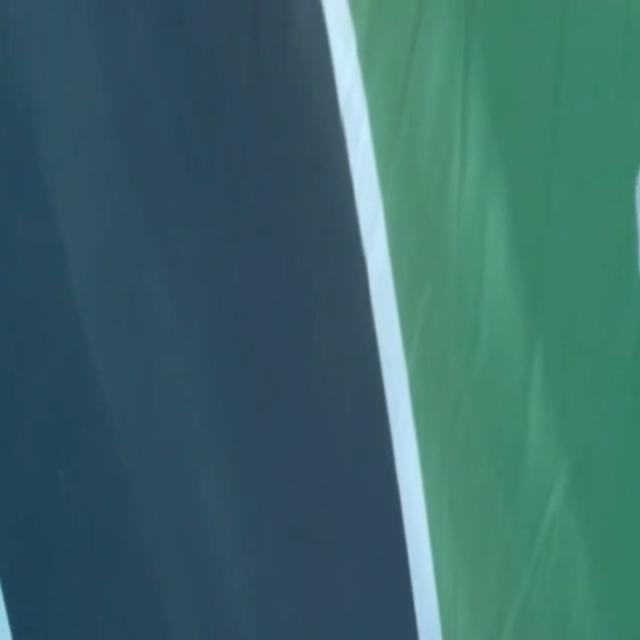center: (0, 583, 12, 639)
right: (322, 0, 442, 639)
